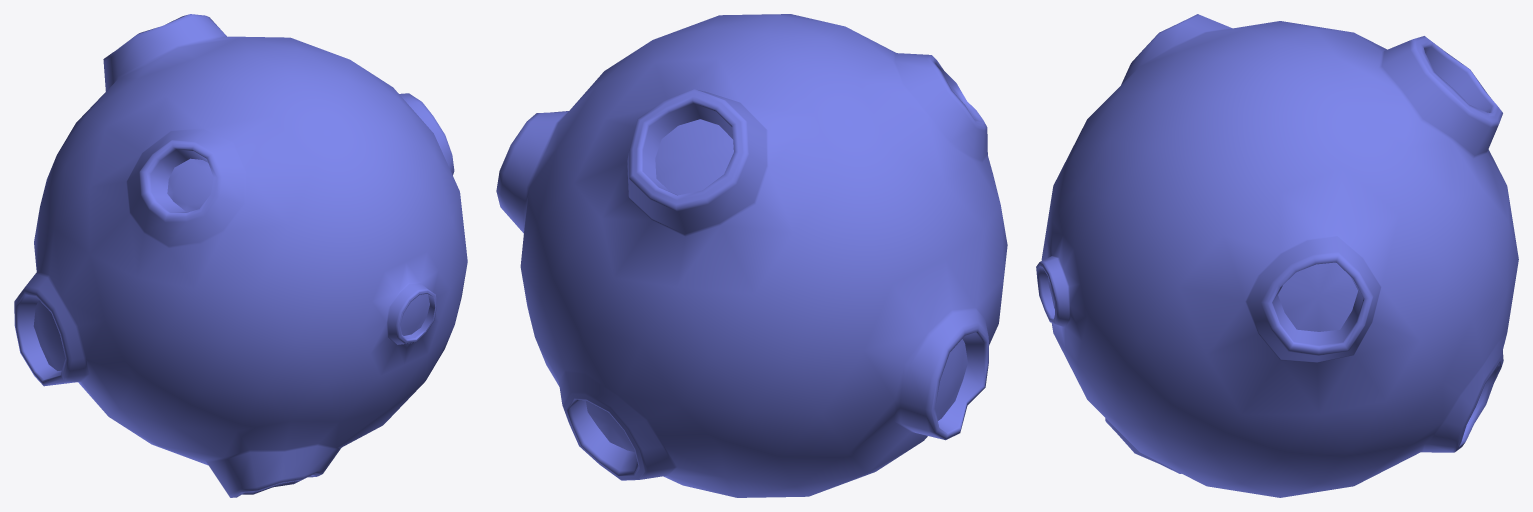
The model's file is sm_lune.fbx.
3 views of the same model, side by side, from view 1: azimuth 30°, elevation 25°; view 2: azimuth 150°, elevation 25°; view 3: azimuth 270°, elevation 25° (orthographic). The views are drawn at different scales.
Parts seen in each view (by area): view 1: sm_lune; view 2: sm_lune; view 3: sm_lune.
Part boxes in pixels (x1,y1,x2,y2): sm_lune: (14, 14, 467, 497); sm_lune: (496, 14, 1007, 497); sm_lune: (1036, 14, 1518, 497).
Size of the model in its own units: 213 by 203 by 202.
